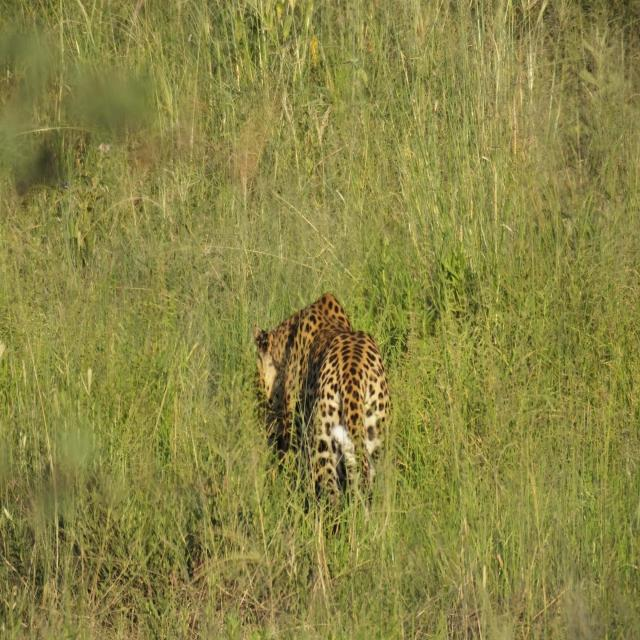Leopard: (249, 284, 405, 531)
